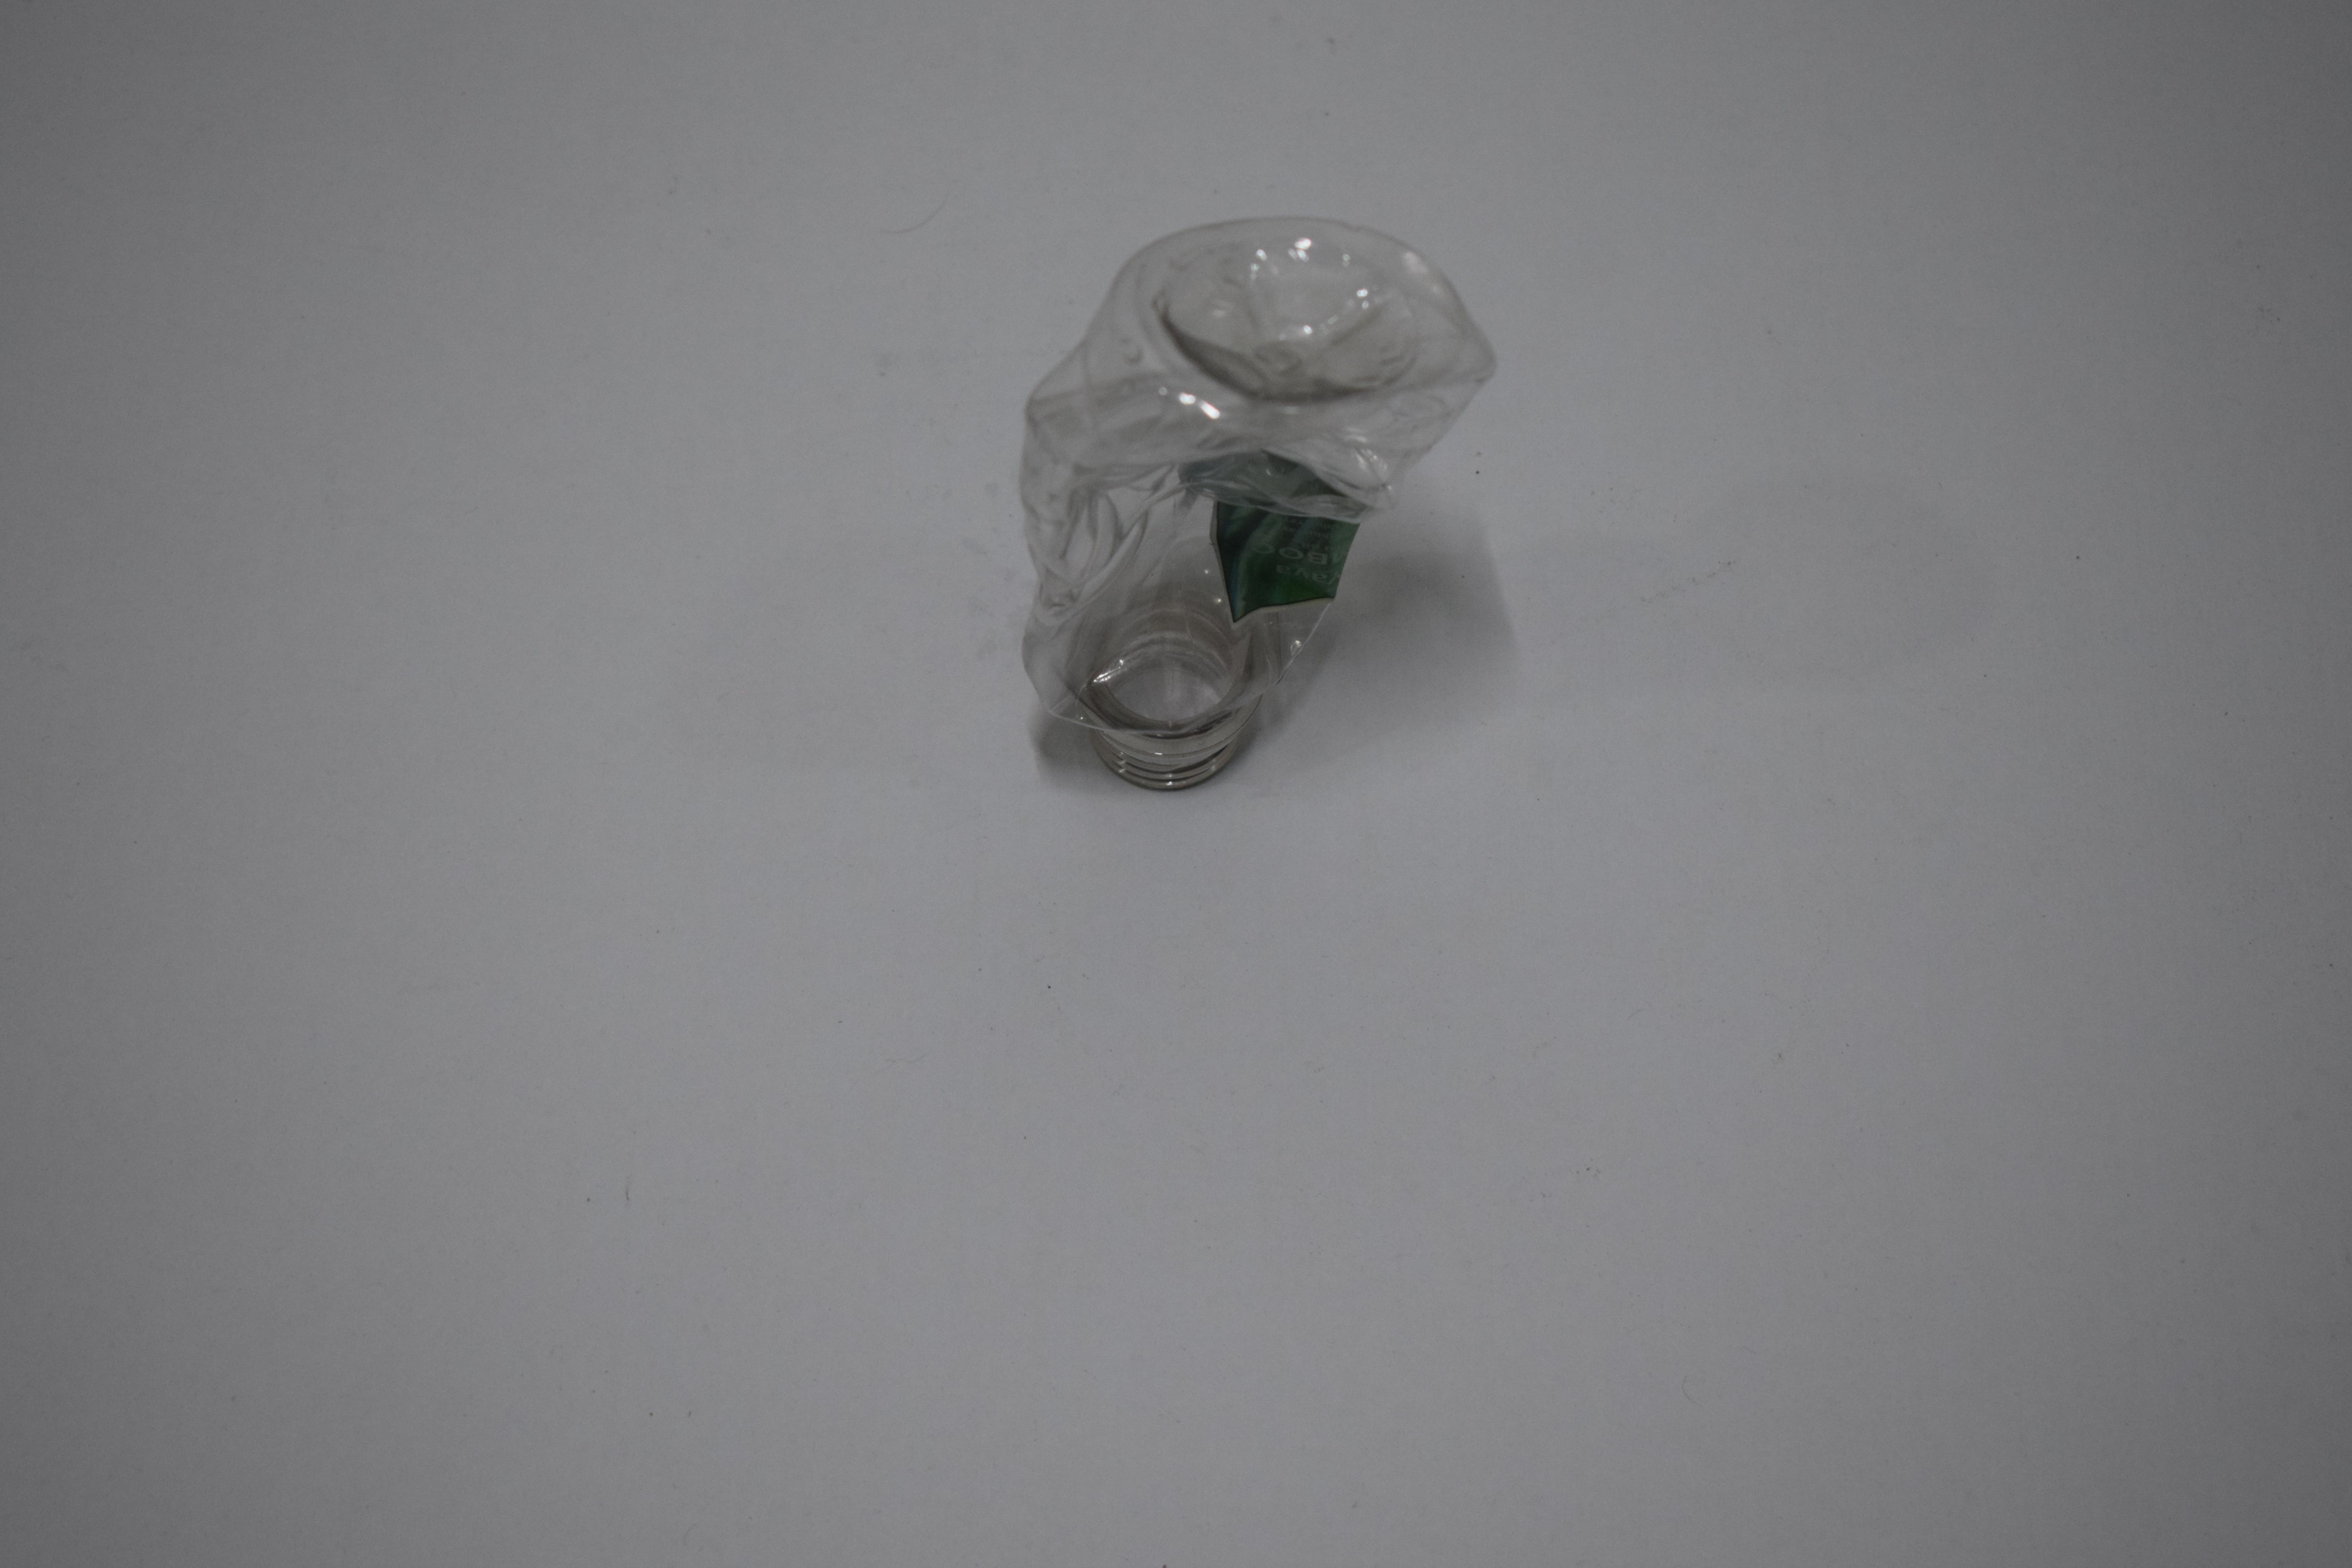bottle: (0, 203, 317, 800)
